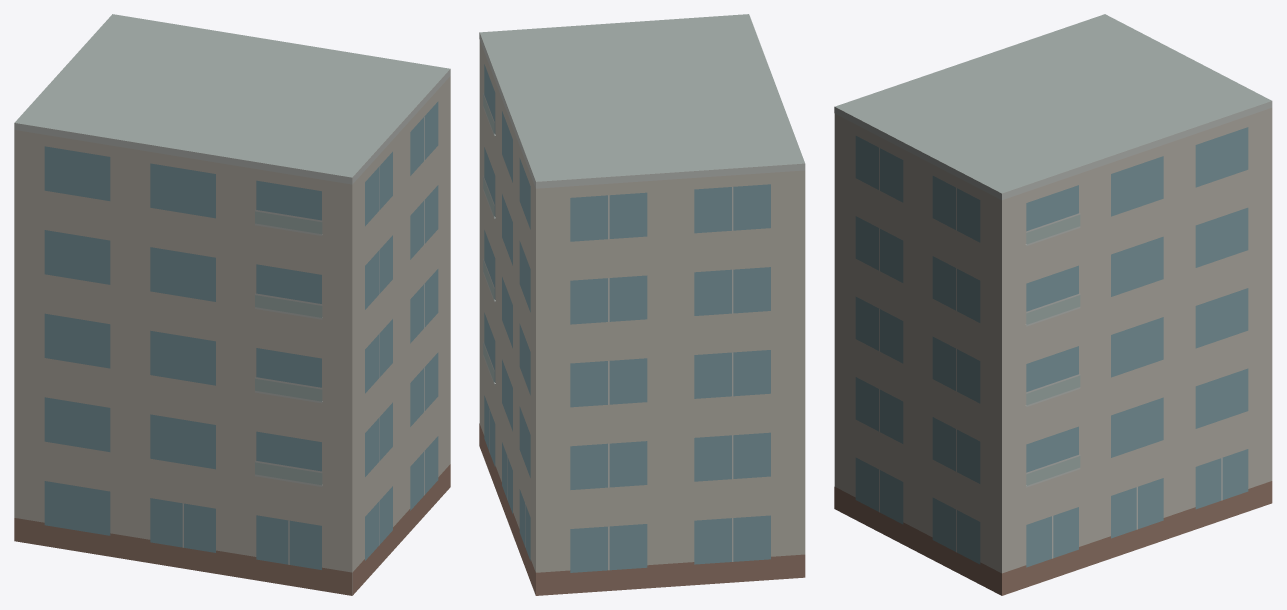
The model's file is survey-upis-32768815.glb.
3 views of the same model, side by side, from view 1: azimuth 30°, elevation 25°; view 2: azimuth 150°, elevation 25°; view 3: azimuth 270°, elevation 25° (orthographic). The views are drawn at different scales.
Visible parts, largest first — view 1: survey-upis-32768815.tmp; view 2: survey-upis-32768815.tmp; view 3: survey-upis-32768815.tmp.
Boxes of the visible parts, <box> form: survey-upis-32768815.tmp: <box>14,14,450,595</box>; survey-upis-32768815.tmp: <box>479,14,805,595</box>; survey-upis-32768815.tmp: <box>834,14,1272,595</box>.
Size of the model in its own units: 14.08 by 14.7 by 14.51.
